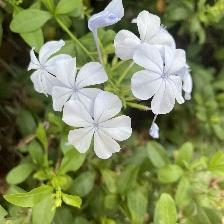chitrak: (64, 96, 131, 162), (132, 45, 188, 118), (24, 41, 69, 92)
